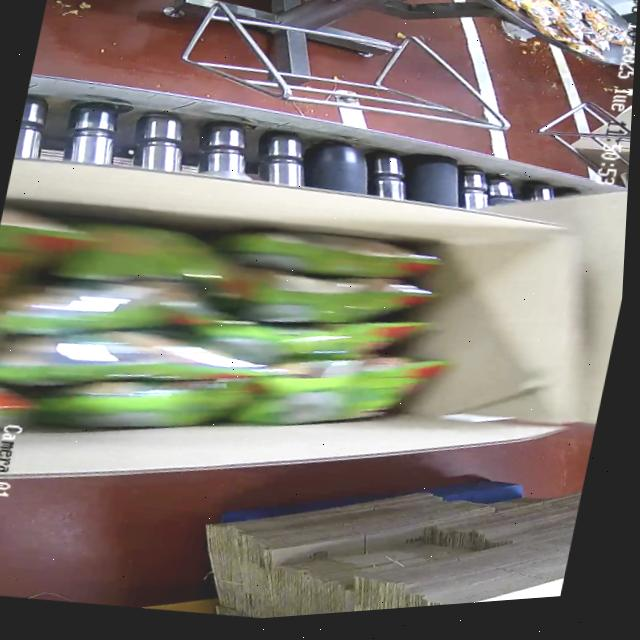YOGURT_HERB: (0, 168, 461, 514)
